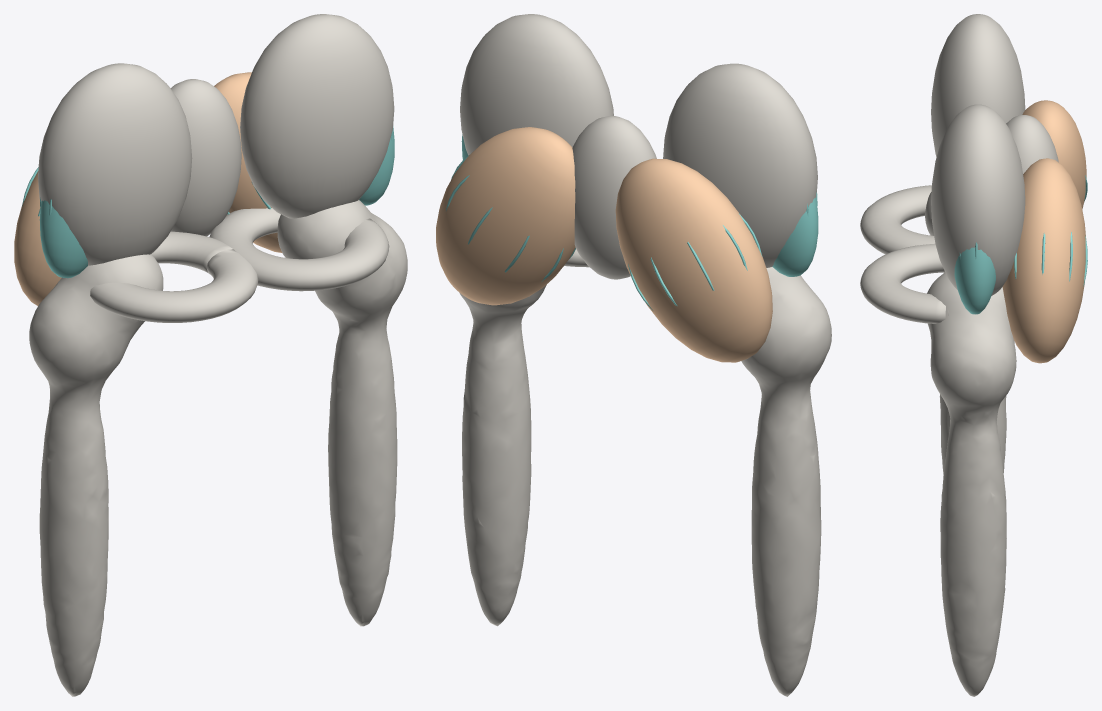
Rendered from hip-glutes.glb.
3 views of the same model, side by side, from view 1: azimuth 30°, elevation 25°; view 2: azimuth 150°, elevation 25°; view 3: azimuth 270°, elevation 25° (orthographic). The views are drawn at different scales.
Visible parts, largest first — view 1: static #eee5d3, static #f2a066, static #49bdb4; view 2: static #eee5d3, static #f2a066, static #49bdb4; view 3: static #eee5d3, static #f2a066, static #49bdb4.
Boxes of the visible parts, bbox=[...] form: static #eee5d3: bbox=[29, 14, 407, 696]; static #f2a066: bbox=[14, 72, 282, 305]; static #49bdb4: bbox=[22, 126, 394, 278]; static #eee5d3: bbox=[459, 14, 831, 696]; static #f2a066: bbox=[436, 127, 772, 362]; static #49bdb4: bbox=[446, 134, 818, 310]; static #eee5d3: bbox=[860, 14, 1058, 696]; static #f2a066: bbox=[1002, 100, 1086, 363]; static #49bdb4: bbox=[954, 175, 1087, 314].
Bounding box in the file's own units: 0.2464 × 0.3973 × 0.1446.
